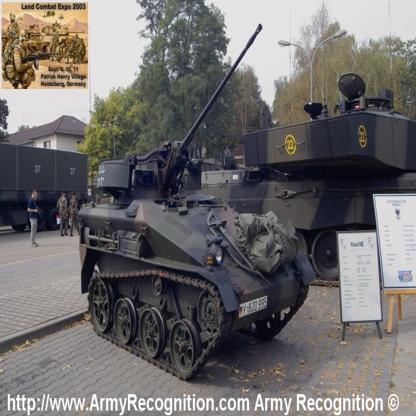Tank: (70, 144, 320, 385)
